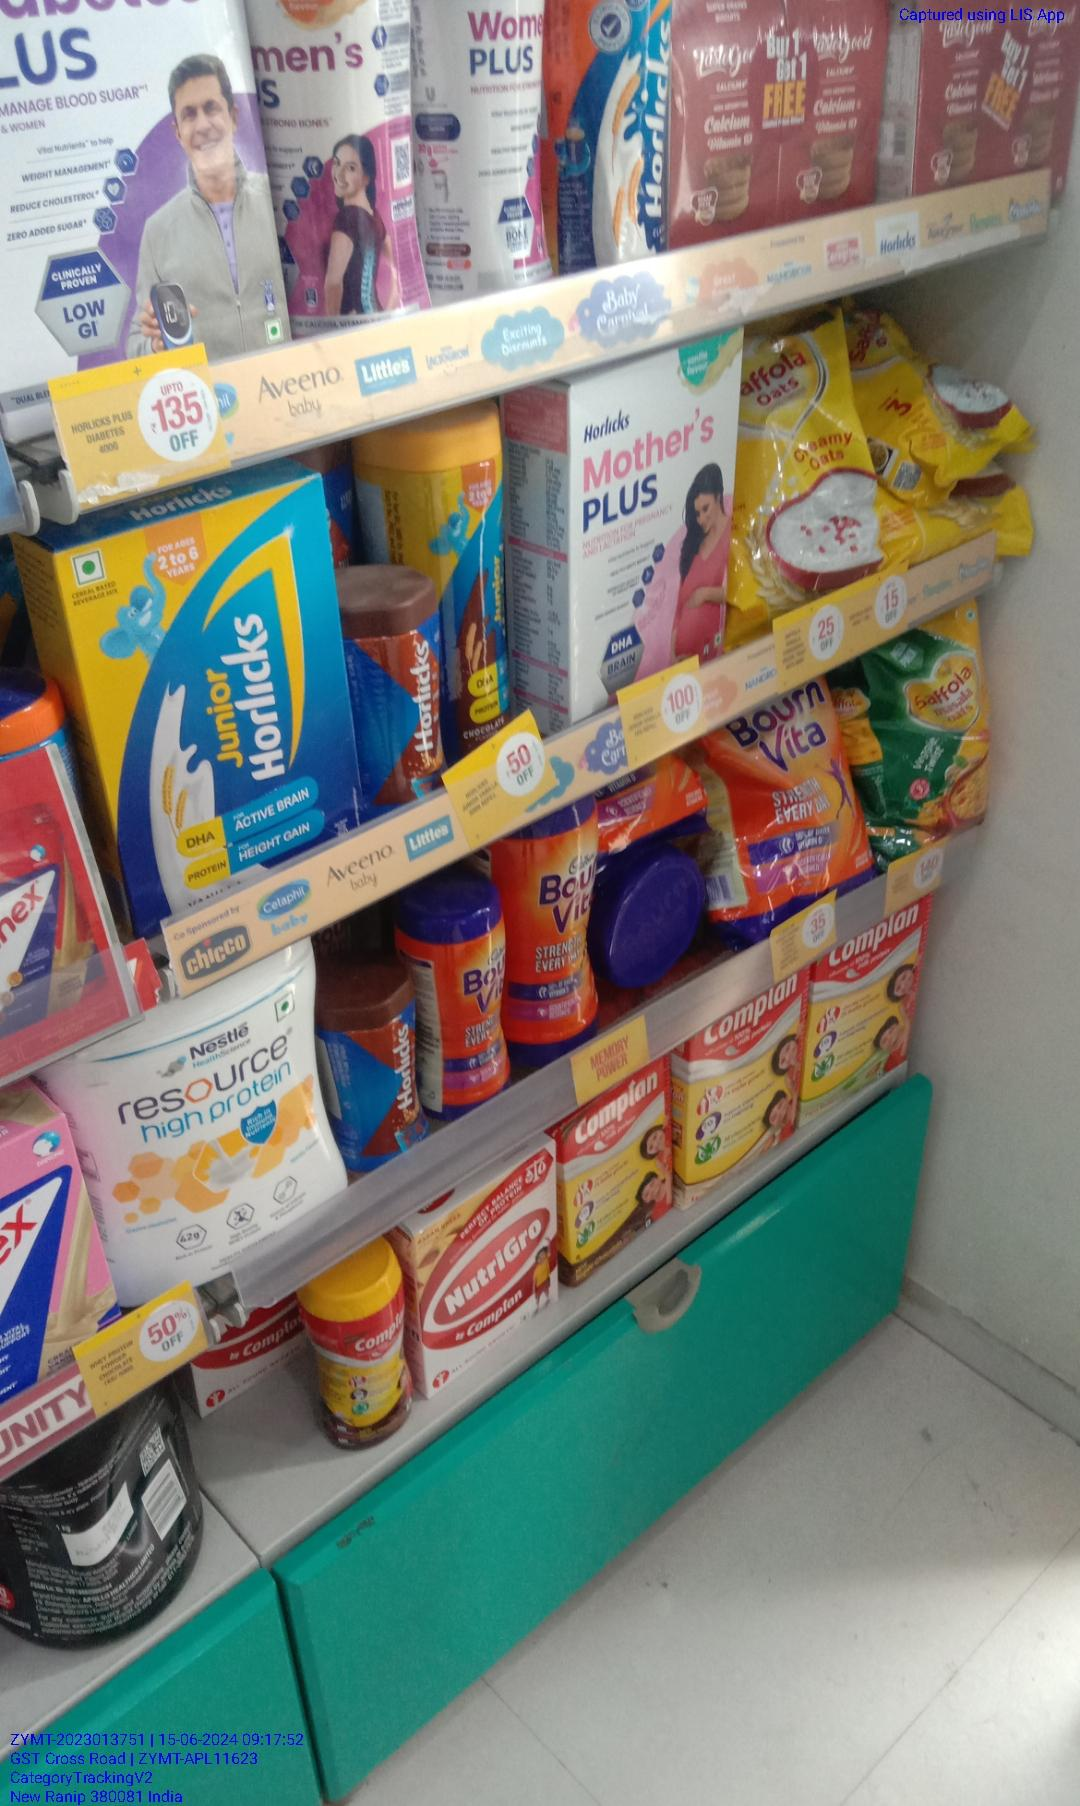BOURN_VITA_200_G_JAR: (431, 866, 508, 1118)
BOURN_VITA_500_G_JAR: (512, 805, 599, 1045)
BOURN_VITA_500_G_POUCH: (710, 690, 870, 934)
HORLICK_CHOCOLATE_500_G_JAR: (359, 557, 445, 807), (327, 950, 423, 1157)
